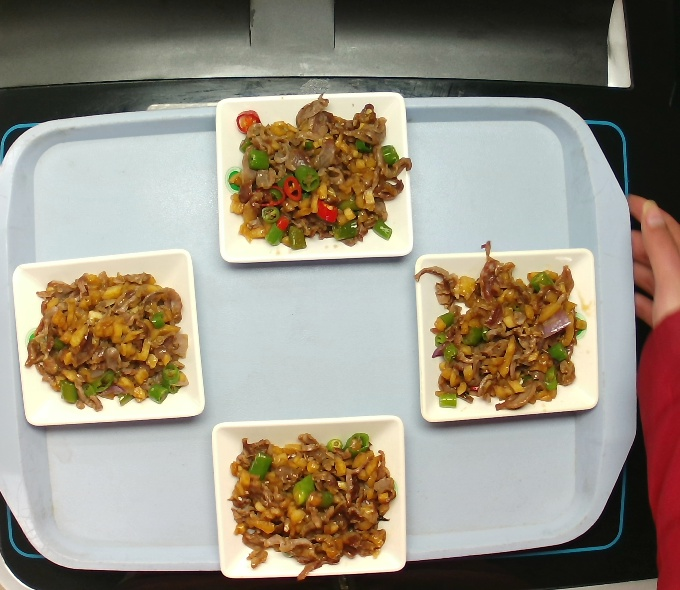wcq-ZhaCaiChaoJiZhen: (419, 233, 596, 427), (214, 422, 403, 582), (224, 97, 411, 253), (24, 265, 190, 417)
